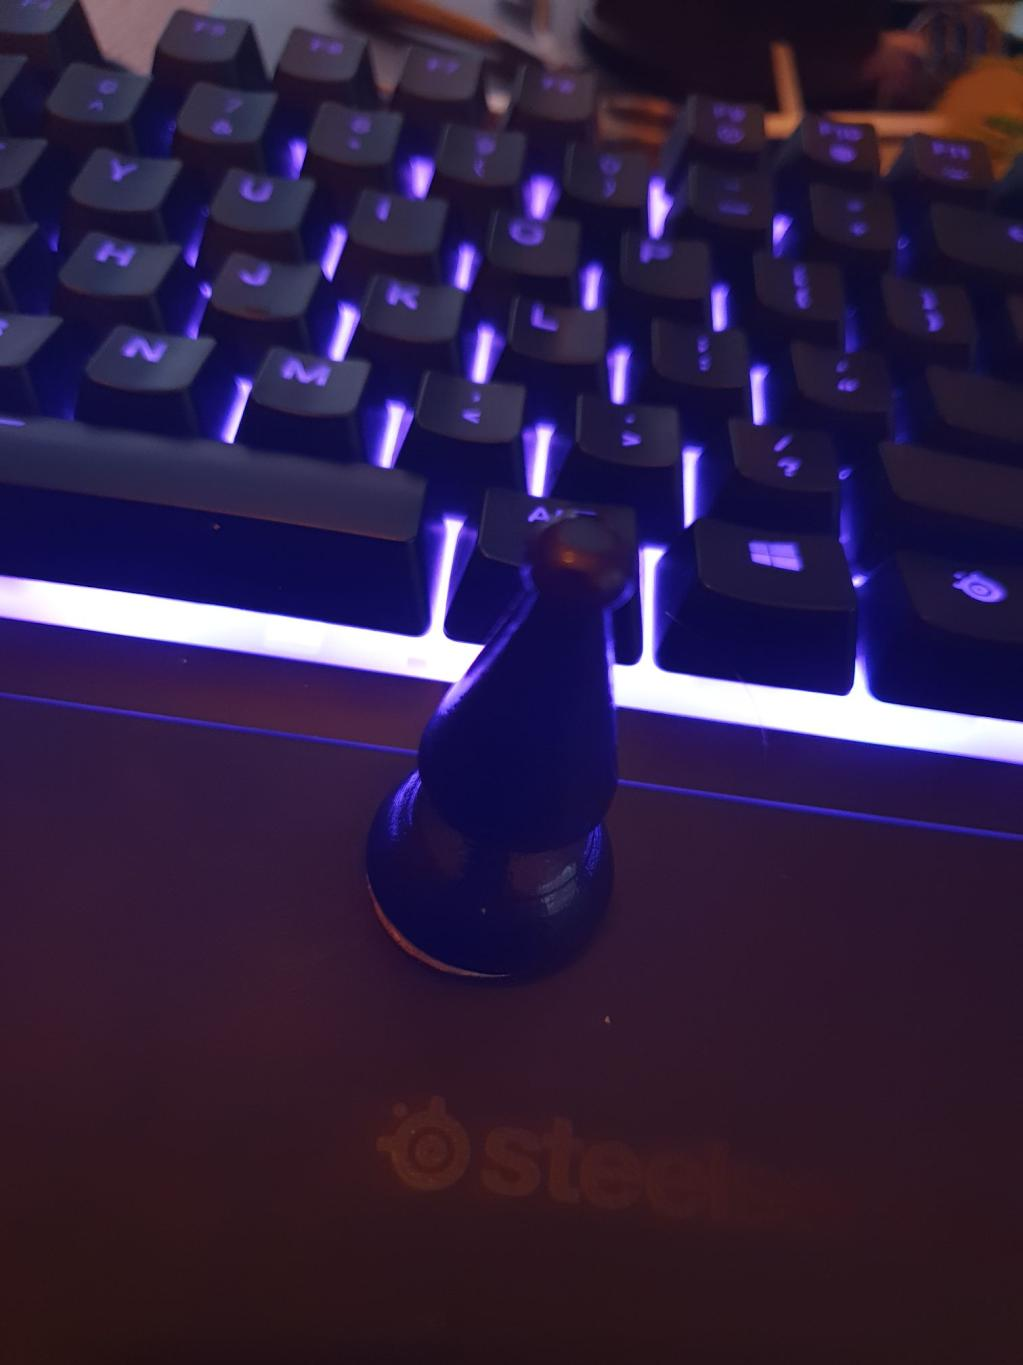bbishop: (363, 518, 632, 985)
